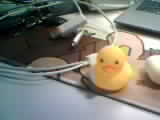duck: (84, 41, 129, 84)
